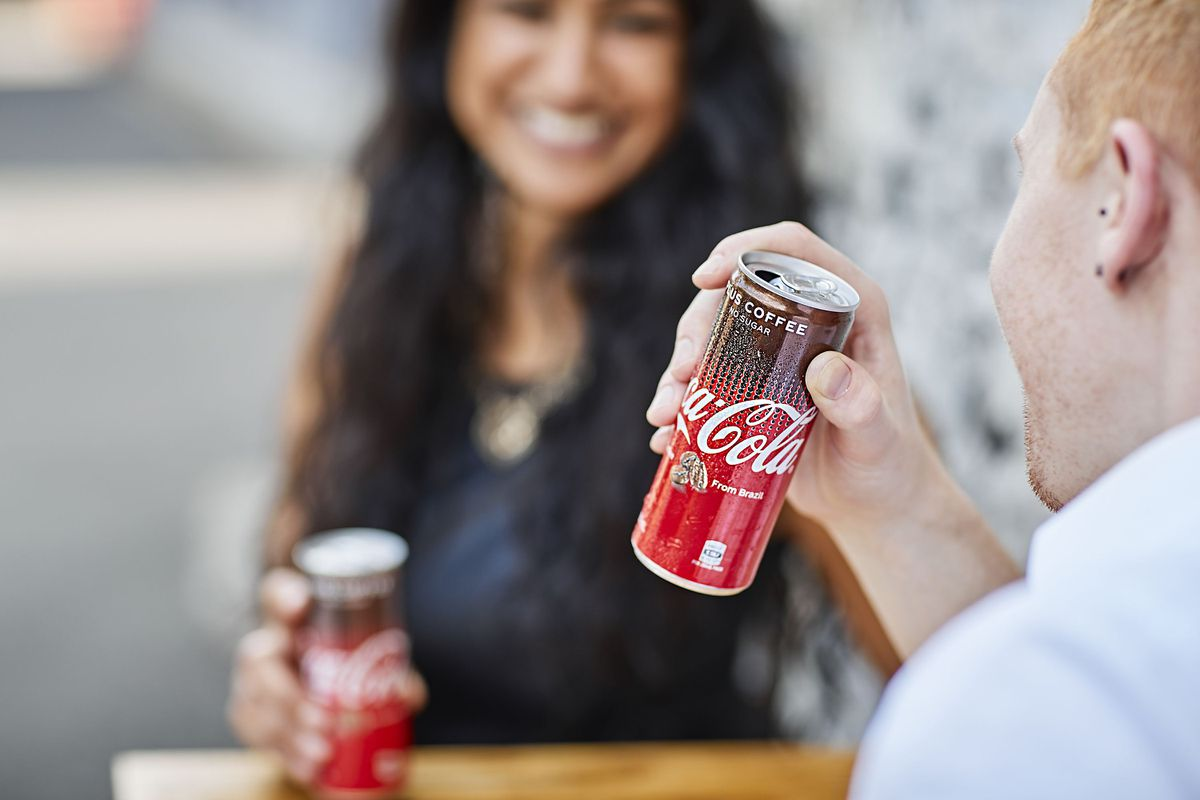coke: (637, 262, 861, 589)
